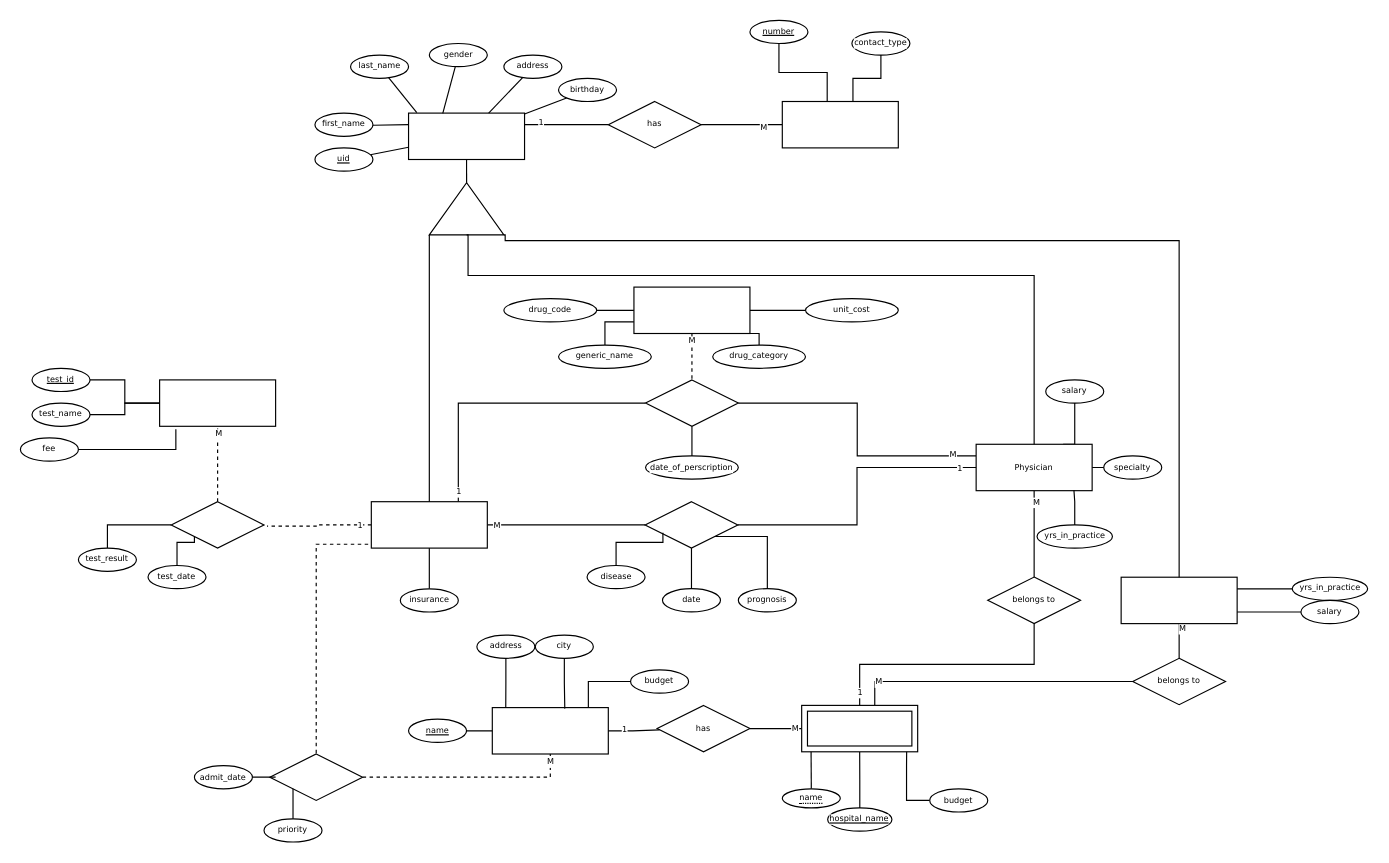
Image size: 1389x863. Some labels were removed from this diagram. The box of each missing label's shape, as (x1, y1, x2, y2) in pixels:
Department: (801, 704, 918, 752)
diagnosis: (644, 501, 738, 548)
Drug: (633, 286, 750, 334)
goes to: (269, 753, 363, 800)
Hospital: (491, 706, 608, 754)
is tested: (170, 501, 264, 548)
ISA: (428, 182, 504, 235)
Medical Test: (158, 379, 276, 426)
Nurse: (1120, 576, 1237, 624)
Patient: (370, 501, 487, 548)
perscribes: (644, 379, 738, 426)
Person: (407, 112, 525, 160)
PhoneNumber: (781, 100, 898, 148)
